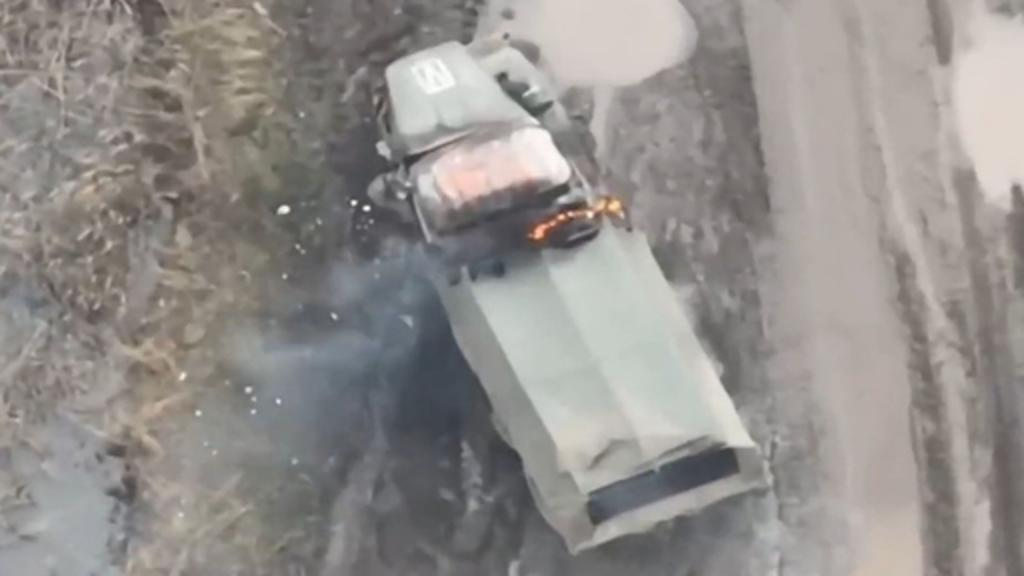TRUCK: (348, 30, 780, 560)
